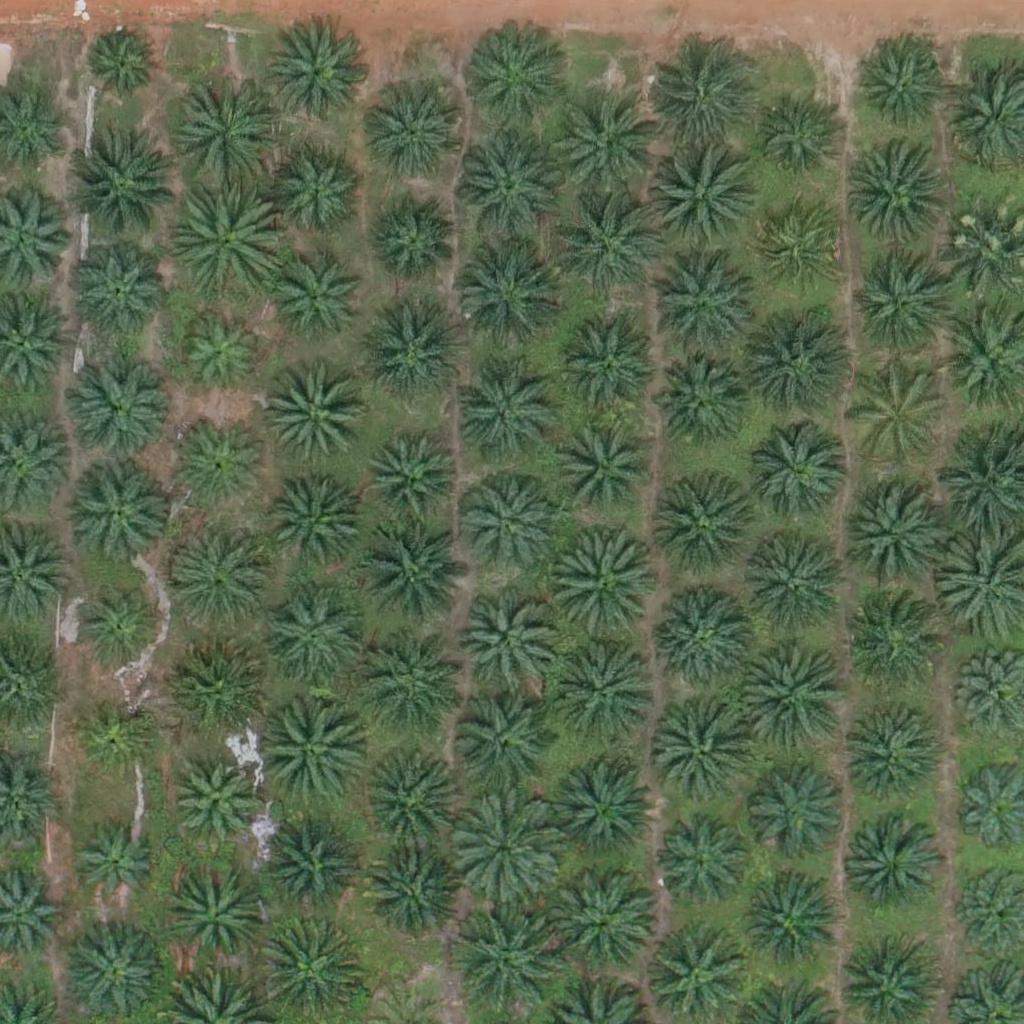Kelapa_Sawit: (65, 136, 178, 250), (447, 235, 560, 349), (446, 906, 559, 1020), (175, 85, 288, 198), (247, 692, 360, 805), (446, 130, 559, 243), (546, 530, 659, 643), (548, 85, 661, 198), (642, 141, 755, 254), (738, 637, 851, 750), (175, 188, 287, 302), (454, 347, 566, 461), (744, 527, 856, 641), (167, 519, 279, 632), (356, 519, 468, 632), (460, 21, 572, 134), (447, 791, 559, 904), (548, 634, 660, 747), (551, 189, 663, 302), (641, 48, 753, 161), (748, 309, 860, 422), (847, 476, 959, 589), (67, 462, 167, 563), (179, 638, 279, 739), (267, 28, 367, 129), (262, 373, 362, 474), (261, 585, 361, 686), (252, 814, 352, 915), (355, 745, 455, 846), (365, 645, 465, 746), (361, 300, 461, 401), (365, 79, 465, 180), (459, 472, 559, 573), (456, 588, 556, 689), (554, 753, 654, 854), (556, 315, 656, 416), (555, 419, 655, 520), (652, 254, 752, 355), (649, 476, 749, 577), (655, 584, 755, 685), (654, 709, 754, 810), (747, 761, 847, 862), (754, 420, 854, 521), (848, 142, 948, 243), (845, 366, 945, 467), (840, 596, 940, 697), (844, 711, 944, 812), (845, 819, 945, 920), (741, 873, 841, 974), (164, 866, 264, 967), (67, 239, 167, 339), (69, 360, 169, 460), (267, 471, 367, 571), (449, 695, 549, 795), (649, 354, 749, 454), (847, 257, 947, 357), (643, 923, 743, 1023), (554, 872, 654, 972), (356, 842, 456, 942), (73, 690, 161, 778), (73, 577, 161, 665), (168, 758, 256, 846), (182, 310, 270, 398), (756, 202, 844, 290), (861, 45, 949, 133), (68, 822, 155, 910), (177, 421, 264, 509), (271, 149, 358, 237), (275, 256, 362, 344), (366, 430, 453, 518), (369, 191, 456, 279), (657, 818, 744, 906), (754, 94, 841, 182), (85, 29, 160, 104)
